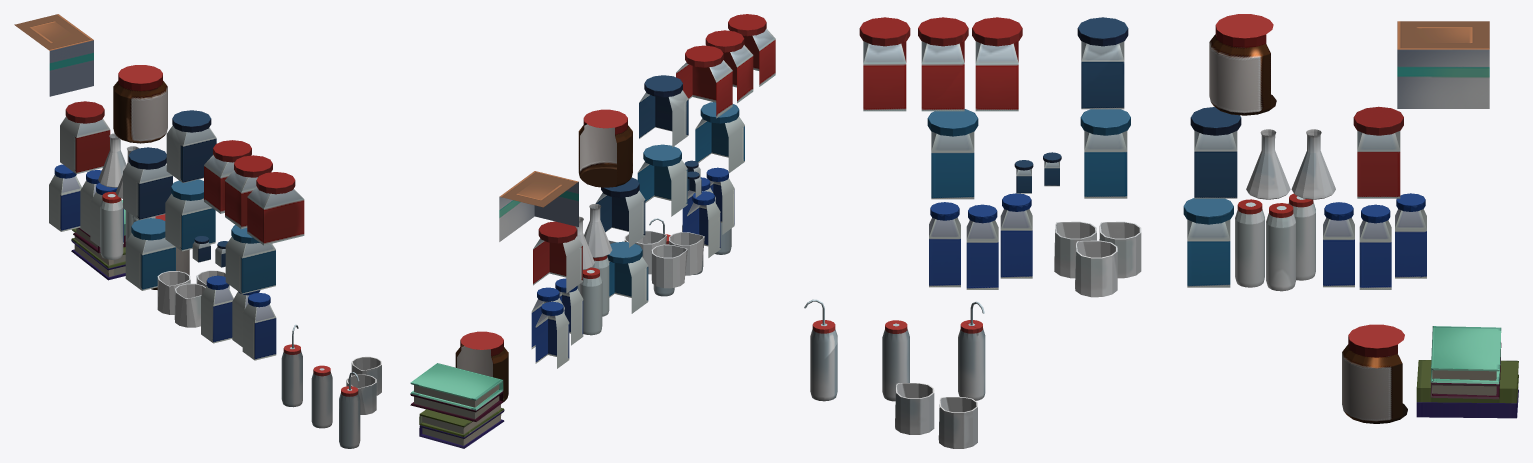
The model's file is Tx_props_glasscabinet_8.fbx.
3 renders of one model, left to right at view 1: azimuth 30°, elevation 25°; view 2: azimuth 150°, elevation 25°; view 3: azimuth 270°, elevation 25°, orthographic. The views are drawn at different scales.
Parts seen in each view (by area): view 1: Tx_props_glasscabinet_7; view 2: Tx_props_glasscabinet_7; view 3: Tx_props_glasscabinet_7.
Part boxes in pixels (box(x1,y1,x2,y2)): Tx_props_glasscabinet_7: box(14, 14, 381, 448); Tx_props_glasscabinet_7: box(410, 14, 775, 448); Tx_props_glasscabinet_7: box(804, 14, 1518, 448).
Size of the model in its own units: 3.97 by 6.24 by 11.83.
